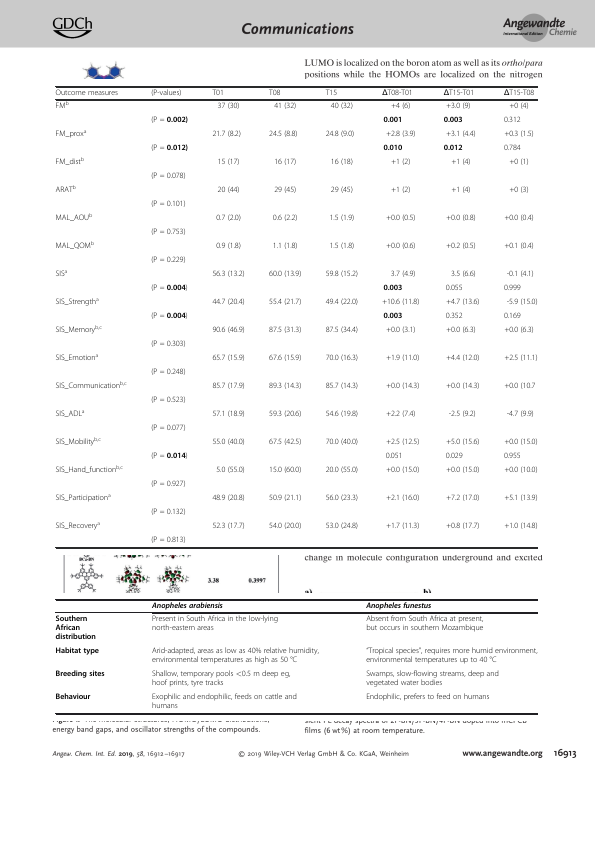borderless: (54, 84, 537, 547), (54, 598, 537, 713)
cell: (365, 647, 538, 666), (151, 647, 320, 666), (151, 693, 298, 712), (151, 670, 291, 689), (365, 670, 500, 689), (151, 615, 279, 634), (365, 615, 484, 634), (365, 693, 490, 703), (54, 615, 97, 643), (55, 380, 128, 391), (55, 464, 124, 475), (151, 602, 224, 611), (55, 492, 112, 503), (365, 602, 432, 611), (55, 89, 119, 98), (55, 324, 103, 335), (54, 670, 106, 680), (55, 436, 102, 447), (55, 520, 101, 531), (55, 296, 100, 307), (55, 352, 99, 363), (54, 647, 100, 657), (55, 240, 95, 251), (55, 212, 93, 223), (54, 693, 91, 703), (55, 128, 87, 139), (150, 116, 189, 125), (150, 144, 189, 153), (150, 284, 189, 293), (381, 298, 420, 307), (150, 312, 189, 321), (150, 452, 189, 461), (55, 156, 85, 167), (55, 408, 85, 419), (150, 172, 186, 181), (150, 200, 186, 209), (150, 228, 186, 237), (150, 256, 186, 265), (150, 340, 186, 349), (150, 368, 186, 377), (150, 396, 186, 405), (150, 424, 186, 433), (150, 480, 186, 489), (150, 508, 186, 517), (150, 536, 186, 545), (211, 270, 246, 279), (211, 298, 246, 307), (445, 298, 480, 307), (211, 326, 246, 335), (211, 354, 246, 363), (385, 354, 420, 363), (445, 354, 480, 363), (503, 354, 538, 363), (211, 382, 246, 391), (385, 382, 420, 391), (445, 382, 480, 391), (211, 410, 246, 419), (211, 438, 246, 447), (385, 438, 420, 447), (445, 438, 480, 447), (503, 438, 538, 447), (385, 466, 420, 475), (445, 466, 480, 475), (503, 466, 538, 475), (211, 494, 246, 503), (385, 494, 420, 503), (445, 494, 480, 503), (503, 494, 538, 503), (211, 522, 246, 531), (385, 522, 420, 531), (445, 522, 480, 531), (503, 522, 538, 531), (268, 270, 302, 279), (325, 270, 359, 279), (268, 298, 302, 307), (325, 298, 359, 307), (268, 326, 302, 335), (325, 326, 359, 335), (268, 354, 302, 363), (325, 354, 359, 363), (268, 382, 302, 391), (325, 382, 359, 391), (268, 410, 302, 419), (325, 410, 359, 419), (268, 438, 302, 447), (325, 438, 359, 447), (268, 466, 302, 475), (325, 466, 359, 475), (268, 494, 302, 503), (325, 494, 359, 503), (268, 522, 302, 531), (325, 522, 359, 531), (381, 89, 414, 98), (503, 382, 536, 391), (150, 89, 182, 98), (443, 89, 475, 98), (503, 89, 535, 98), (445, 130, 477, 139), (503, 130, 535, 139), (445, 214, 477, 223), (503, 214, 535, 223), (445, 242, 477, 251), (503, 242, 535, 251), (506, 298, 538, 307), (445, 326, 477, 335), (503, 326, 535, 335), (211, 130, 242, 139), (385, 130, 416, 139), (385, 214, 416, 223), (385, 242, 416, 251), (385, 326, 416, 335), (385, 410, 416, 419), (215, 466, 246, 475), (268, 130, 298, 139), (325, 130, 355, 139), (506, 270, 535, 279), (448, 410, 477, 419), (506, 410, 535, 419), (215, 214, 242, 223), (328, 214, 355, 223), (215, 242, 242, 251), (328, 242, 355, 251), (450, 270, 477, 279), (55, 184, 77, 195), (445, 102, 471, 111), (272, 214, 298, 223), (272, 242, 298, 251), (390, 270, 416, 279), (273, 102, 297, 111), (330, 102, 354, 111), (273, 158, 297, 167), (330, 158, 354, 167), (273, 186, 297, 195), (330, 186, 354, 195), (217, 102, 240, 111), (217, 158, 240, 167), (217, 186, 240, 195), (390, 102, 411, 111), (508, 102, 529, 111), (390, 158, 411, 167), (450, 158, 471, 167), (508, 158, 529, 167), (390, 186, 411, 195), (450, 186, 471, 195), (508, 186, 529, 195), (382, 116, 403, 124), (382, 144, 403, 152), (382, 284, 403, 292), (382, 312, 403, 320), (55, 100, 70, 111), (503, 116, 521, 125), (503, 144, 521, 153), (445, 284, 463, 293), (503, 284, 521, 293), (445, 312, 463, 321), (503, 312, 521, 321), (385, 452, 403, 461), (445, 452, 463, 461), (503, 452, 521, 461), (443, 116, 463, 124), (443, 144, 463, 152), (55, 268, 68, 279), (211, 89, 225, 98), (268, 89, 281, 98), (325, 89, 338, 98)
